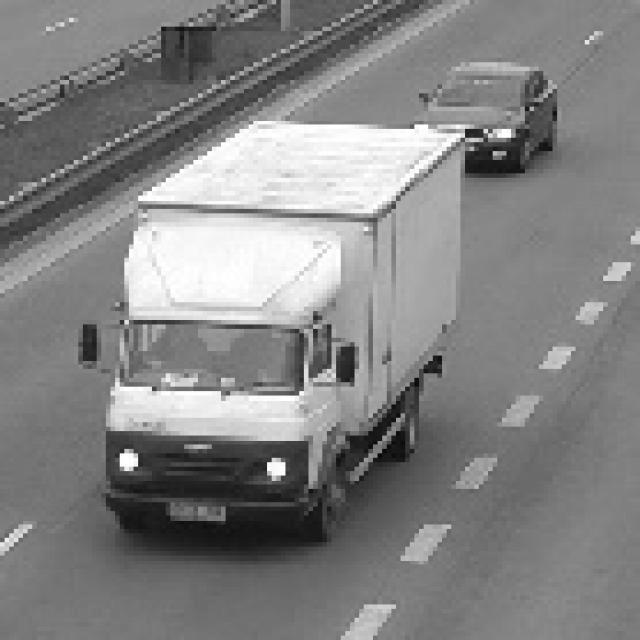truck: (69, 195, 375, 550)
